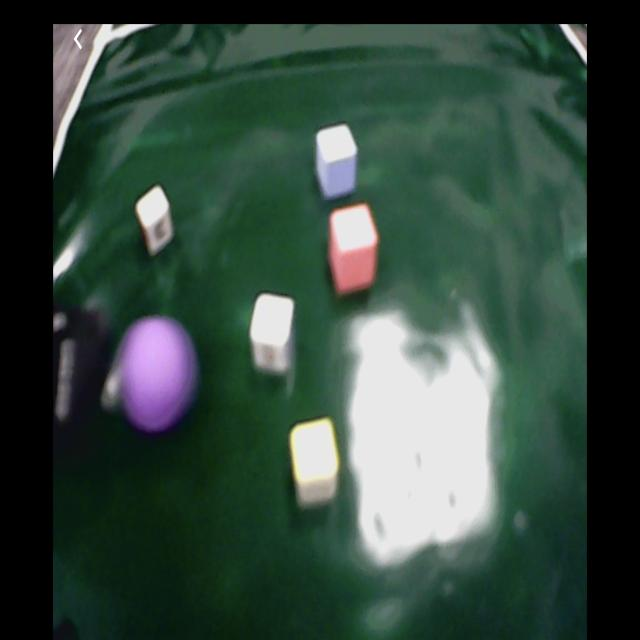ball: (123, 319, 190, 422)
